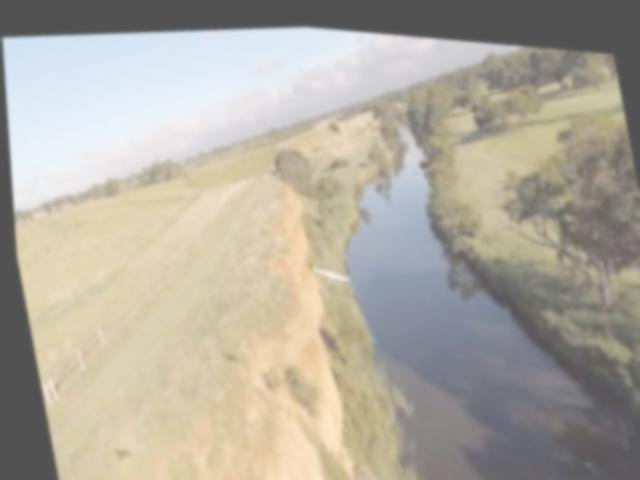uav: (306, 257, 347, 280)
